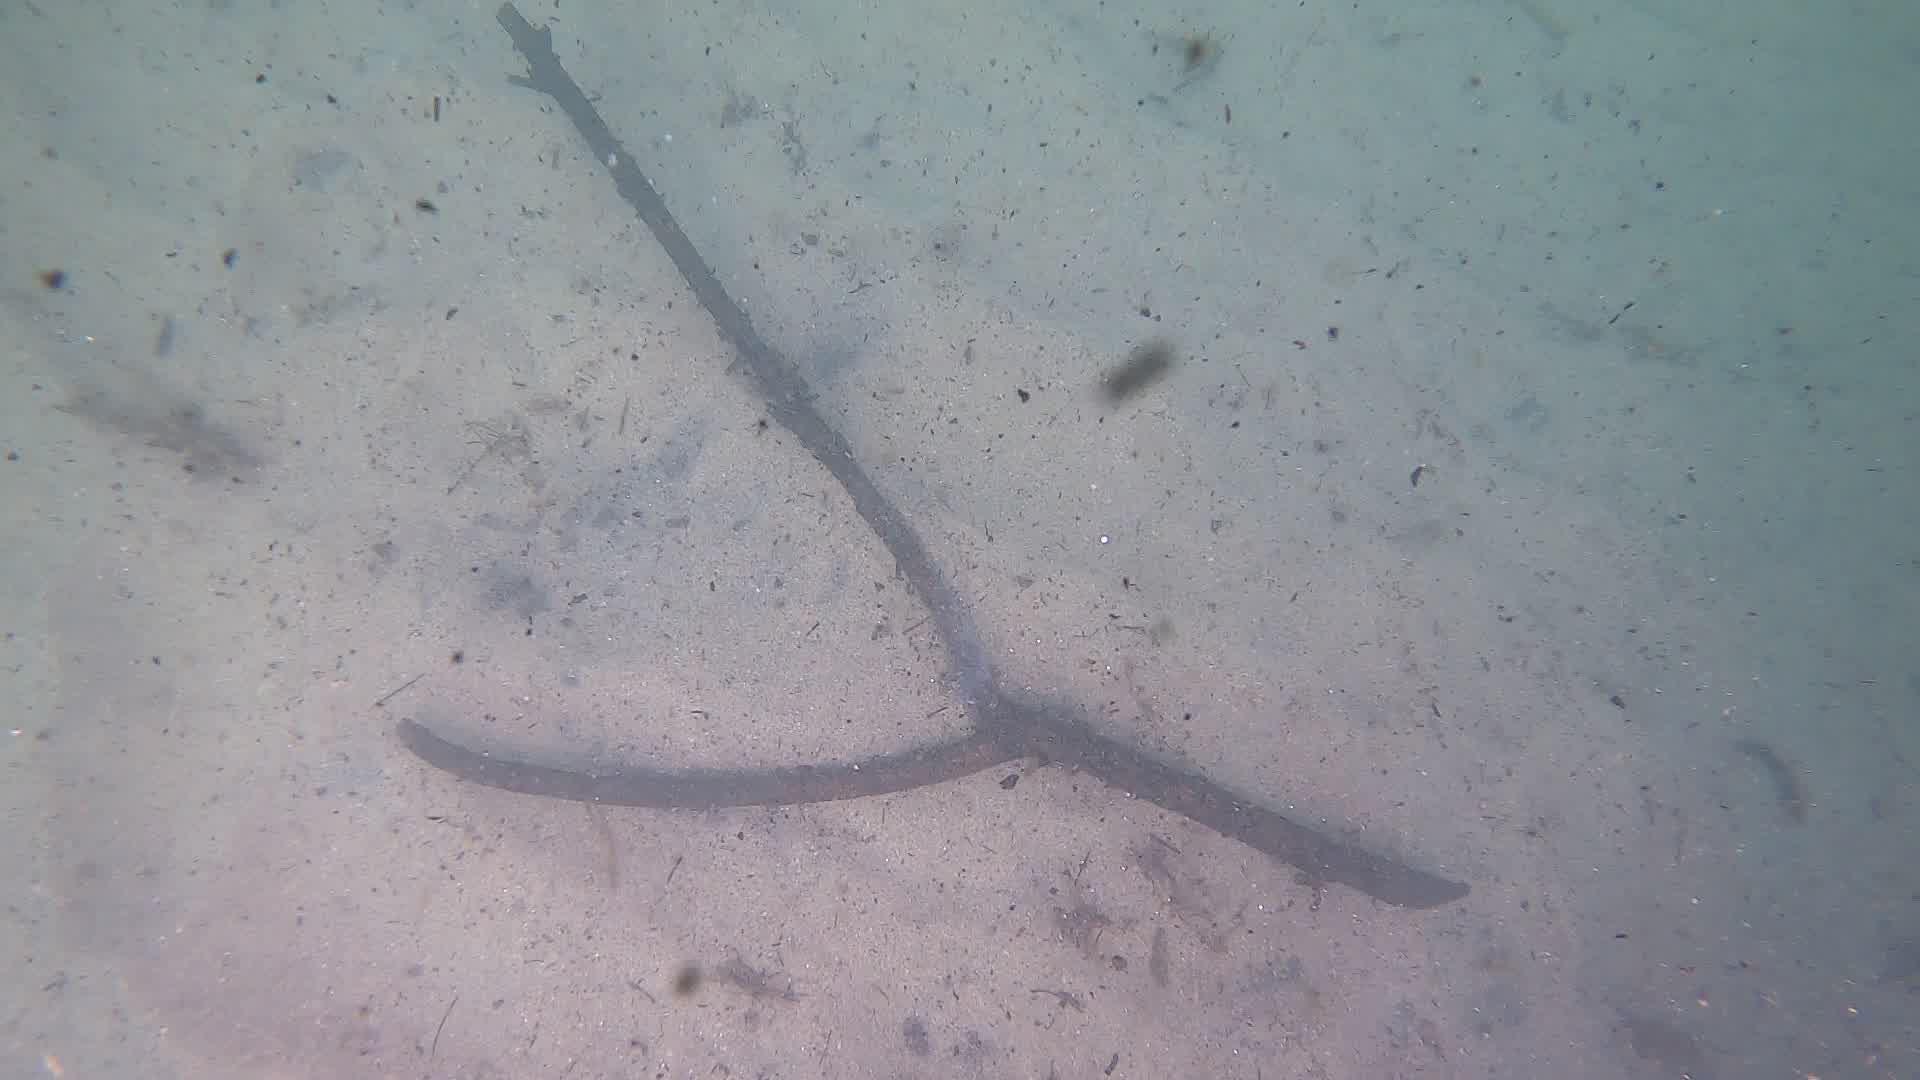wood: (386, 0, 1472, 911)
